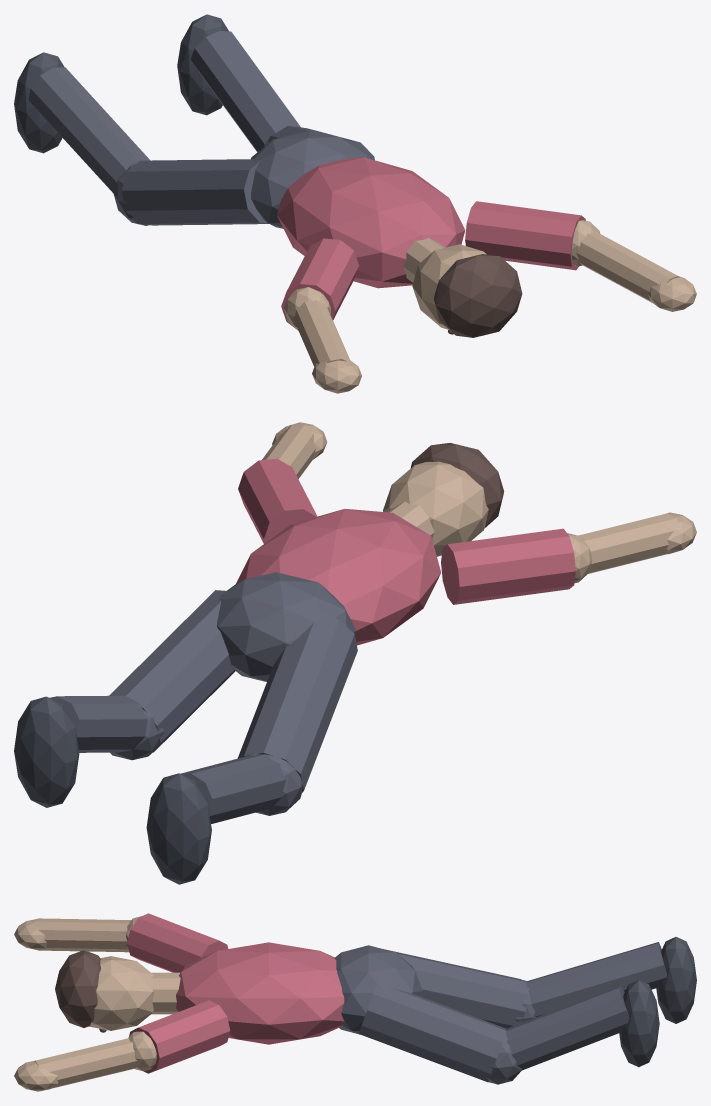
3 views of the same model, one above another, from view 1: azimuth 30°, elevation 25°; view 2: azimuth 150°, elevation 25°; view 3: azimuth 270°, elevation 25° (orthographic). The views are drawn at different scales.
Parts seen in each view (by area): view 1: world; view 2: world; view 3: world.
Part boxes in pixels (x1,y1,x2,y2): world: (14,14,696,393); world: (14,422,696,884); world: (14,913,696,1091).
Bounding box in the file's own units: 1.17 × 0.3942 × 2.12.
